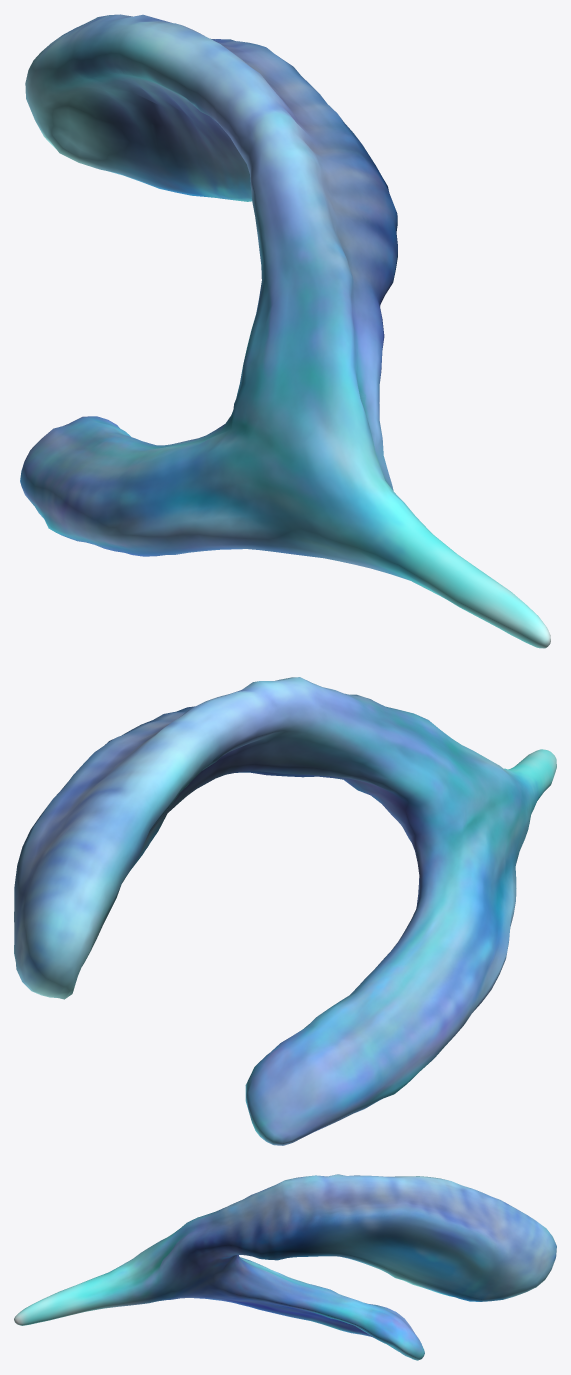
Rendered from latvent.obj.
3 views of the same model, one above another, from view 1: azimuth 30°, elevation 25°; view 2: azimuth 150°, elevation 25°; view 3: azimuth 270°, elevation 25° (orthographic). The views are drawn at different scales.
Visible parts, largest first — view 1: Group19290; view 2: Group19290; view 3: Group19290.
Part boxes in pixels (box(x1,y1,x2,y2)): Group19290: box(20, 14, 550, 648); Group19290: box(14, 677, 556, 1145); Group19290: box(14, 1174, 556, 1360).
Bounding box in the file's own units: 379 × 488 × 1122.
